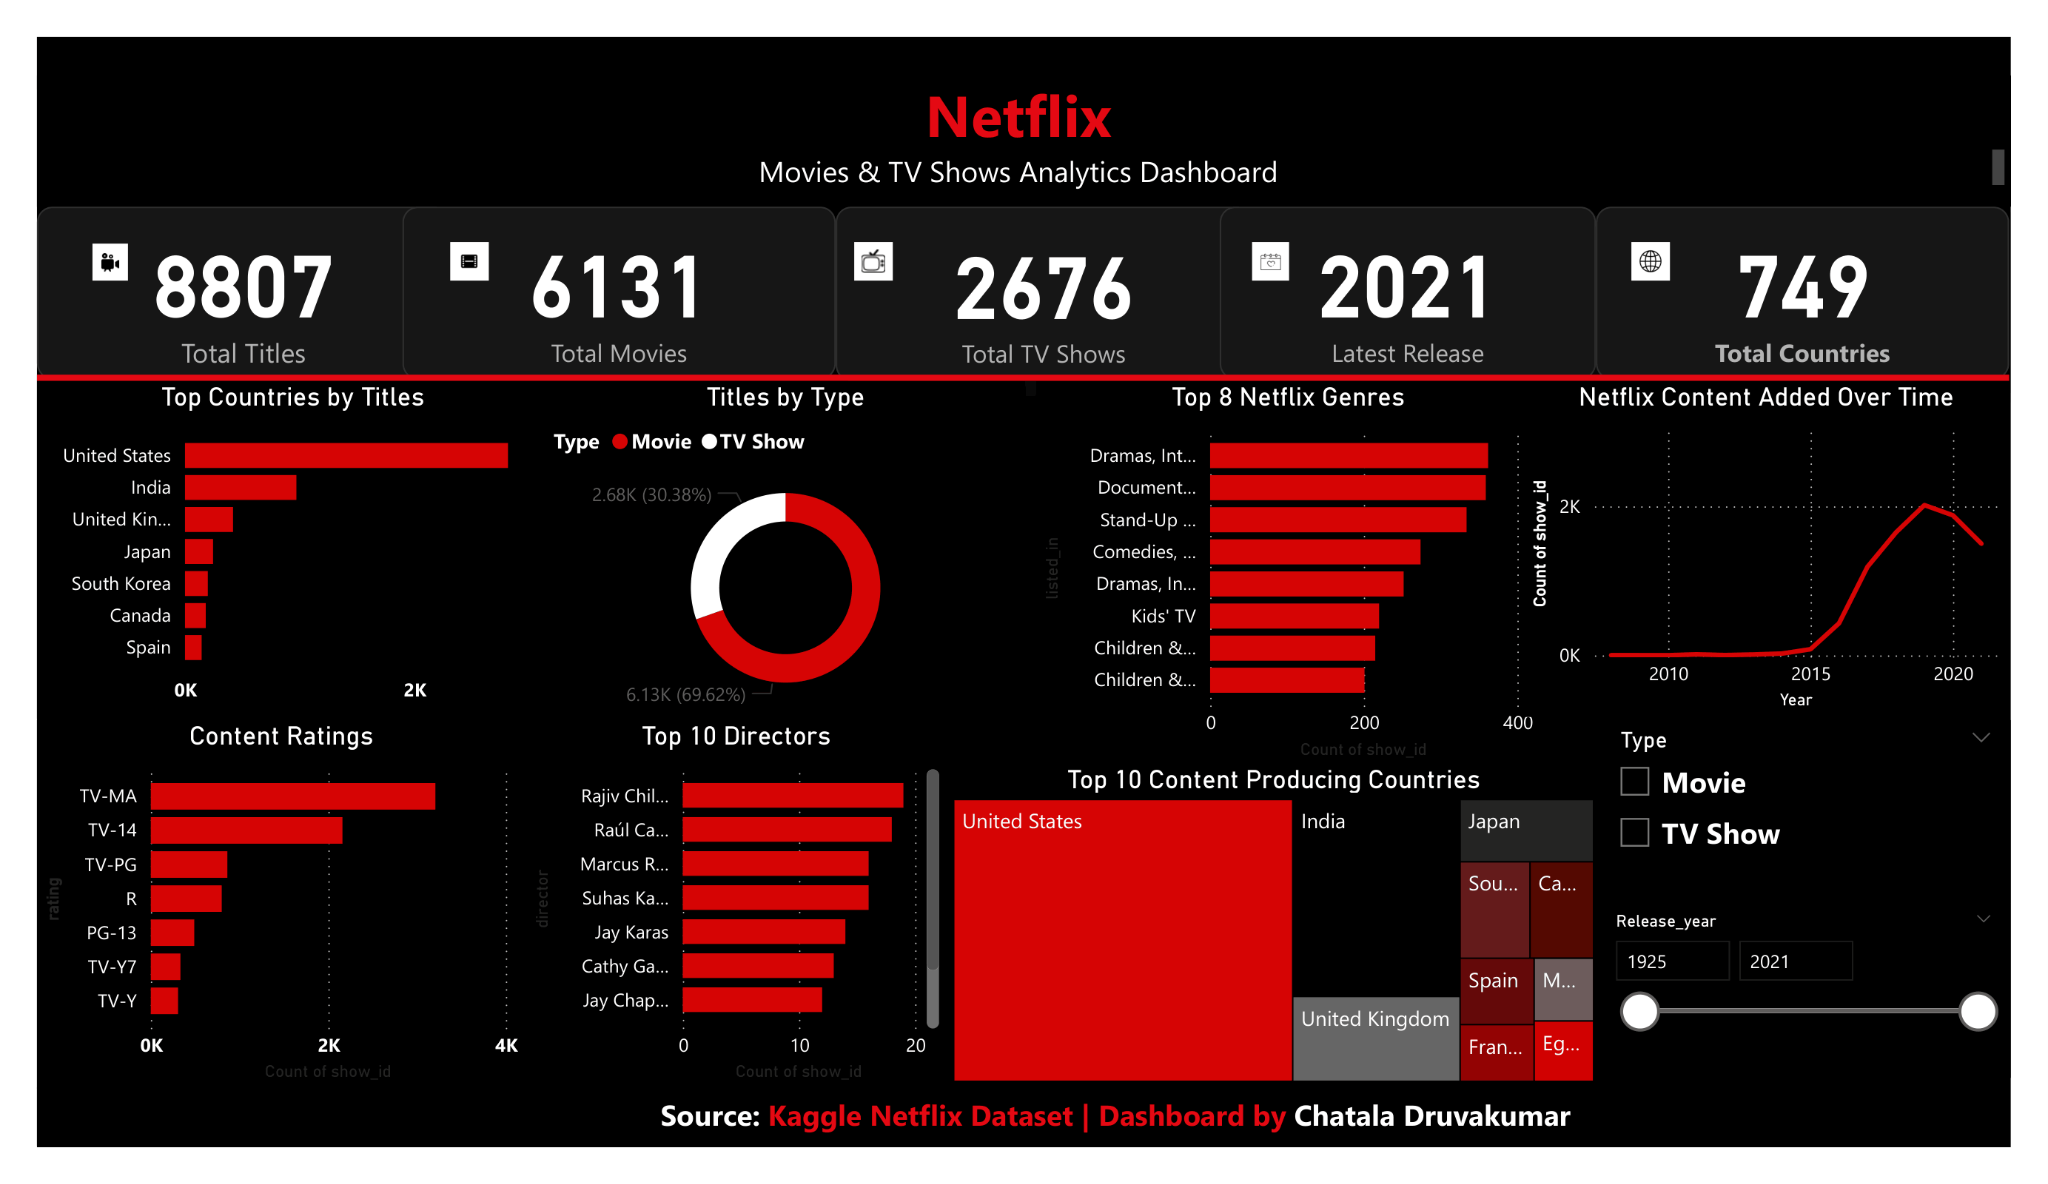

What the dashboard file says about the page in this screenshot:
{"tool":"powerbi","page":{"name":"Page 1","canvas":[1280,720],"ordinal":0},"visuals":[{"type":"card","fields":{"Values":["netflix_titles.Total Titles"]},"box":[0,109.6,268.5,112.3],"z":0},{"type":"card","fields":{"Values":["netflix_titles.Total Movies"]},"box":[237,109.6,280.8,112.3],"z":1000},{"type":"card","fields":{"Values":["netflix_titles.Total TV Shows"]},"box":[517.8,109.6,269.9,113.7],"z":2000},{"type":"card","fields":{"Values":["netflix_titles.Latest Release"]},"box":[767.1,109.6,243.8,112.3],"z":3000},{"type":"card","fields":{"Values":["netflix_titles.Total Countries"]},"box":[1011,109.6,268.5,112.3],"z":4000},{"type":"textbox","box":[0,24.7,1280.8,84.9],"z":5000},{"type":"clusteredBarChart","title":"Top Countries by Titles","fields":{"Category":["netflix_titles.country"],"Y":["CountNonNull(netflix_titles.show_id)"]},"box":[0,223.3,331.5,219.2],"z":6000},{"type":"donutChart","title":"Titles by Type","fields":{"Category":["netflix_titles.type"],"Y":["CountNonNull(netflix_titles.show_id)"]},"box":[330.1,223.3,311,219.2],"z":7000},{"type":"clusteredBarChart","title":"Content Ratings","fields":{"Category":["netflix_titles.rating"],"Y":["CountNonNull(netflix_titles.show_id)"]},"box":[0,442.8,317.2,238.8],"z":8000},{"type":"clusteredBarChart","title":"Top 8 Netflix Genres","fields":{"Category":["netflix_titles.listed_in"],"Y":["CountNonNull(netflix_titles.show_id)"]},"box":[647.9,223.3,327.4,249.3],"z":9000},{"type":"clusteredBarChart","title":"Top 10 Directors","fields":{"Category":["netflix_titles.director"],"Y":["CountNonNull(netflix_titles.show_id)"]},"box":[317.2,442.8,272.4,238.8],"z":10000},{"type":"slicer","fields":{"Values":["netflix_titles.type"]},"box":[1013.8,442.8,266.2,119.4],"z":11000},{"type":"slicer","fields":{"Values":["netflix_titles.release_year"]},"box":[1011,562,268.7,112.9],"z":12000},{"type":"lineChart","title":"Netflix Content Added Over Time","fields":{"Category":["netflix_titles.date_added.Variation.Date Hierarchy.Year"],"Y":["CountNonNull(netflix_titles.show_id)"]},"box":[964.4,223.3,315.1,217.8],"z":13000},{"type":"treemap","title":"Top 10 Content Producing Countries","fields":{"Values":["CountNonNull(netflix_titles.show_id)"],"Group":["netflix_titles.country"]},"box":[589.6,471.5,423.9,210.7],"z":14000},{"type":"textbox","box":[0,681.5,1279.2,37.9],"z":15000},{"type":"image","box":[35.6,134.2,23.3,23.3],"z":15001},{"type":"image","box":[530.1,132.9,24.7,24.7],"z":15002},{"type":"image","box":[268.5,132.9,24.7,24.7],"z":15003},{"type":"image","box":[787.7,132.9,24.7,24.7],"z":15004},{"type":"image","box":[1034.2,132.9,24.7,24.7],"z":15005},{"type":"shape","box":[0,71.2,1279.5,300],"z":15006}]}

Visuals, with their boxes in screenshot pixels (x1, y1, x2, y2), scaled from the page's 1280x720 canvas onto the 2048x1184 screenshot:
card - netflix_titles.Total Titles: rect(0, 180, 430, 365)
card - netflix_titles.Total Movies: rect(379, 180, 828, 365)
card - netflix_titles.Total TV Shows: rect(828, 180, 1260, 367)
card - netflix_titles.Latest Release: rect(1227, 180, 1617, 365)
card - netflix_titles.Total Countries: rect(1618, 180, 2047, 365)
textbox: rect(0, 41, 2047, 180)
"Top Countries by Titles" clusteredBarChart: rect(0, 367, 530, 728)
"Titles by Type" donutChart: rect(528, 367, 1026, 728)
"Content Ratings" clusteredBarChart: rect(0, 728, 508, 1121)
"Top 8 Netflix Genres" clusteredBarChart: rect(1037, 367, 1560, 777)
"Top 10 Directors" clusteredBarChart: rect(508, 728, 943, 1121)
slicer - netflix_titles.type: rect(1622, 728, 2047, 925)
slicer - netflix_titles.release_year: rect(1618, 924, 2047, 1110)
"Netflix Content Added Over Time" lineChart: rect(1543, 367, 2047, 725)
"Top 10 Content Producing Countries" treemap: rect(943, 775, 1622, 1122)
textbox: rect(0, 1121, 2047, 1183)
image: rect(57, 221, 94, 259)
image: rect(848, 219, 888, 259)
image: rect(430, 219, 469, 259)
image: rect(1260, 219, 1300, 259)
image: rect(1655, 219, 1694, 259)
shape: rect(0, 117, 2047, 610)
